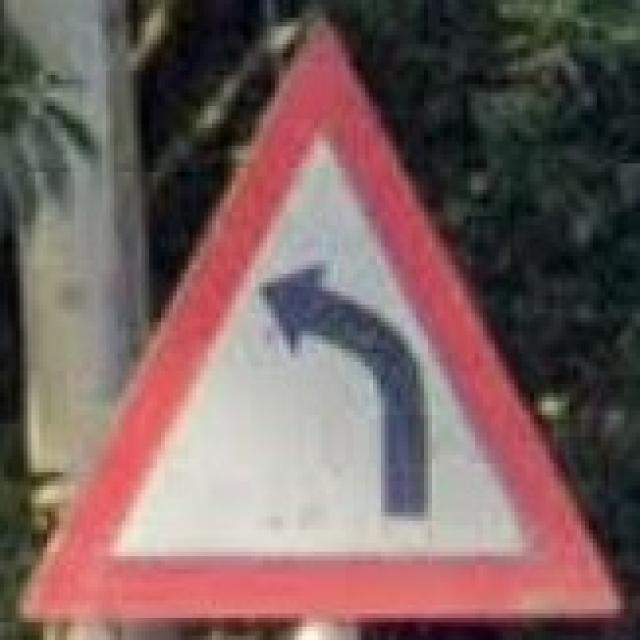Left-Turn: (11, 5, 636, 637)
